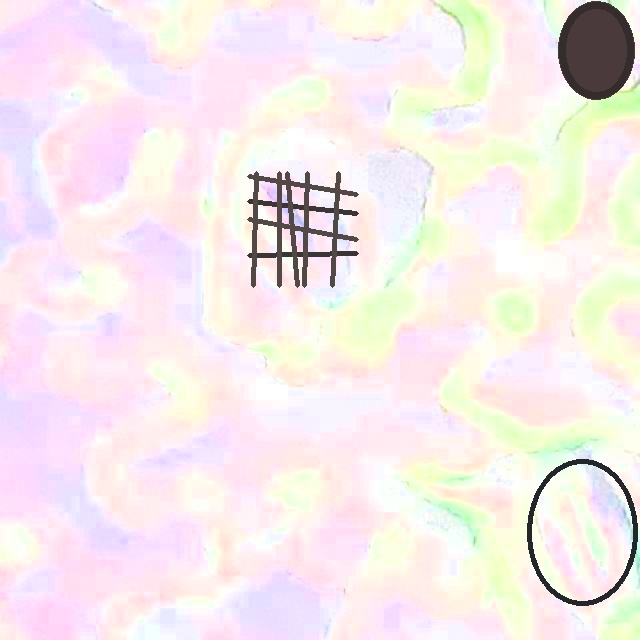open: (526, 459, 638, 606), (247, 171, 358, 287), (557, 1, 635, 99)
